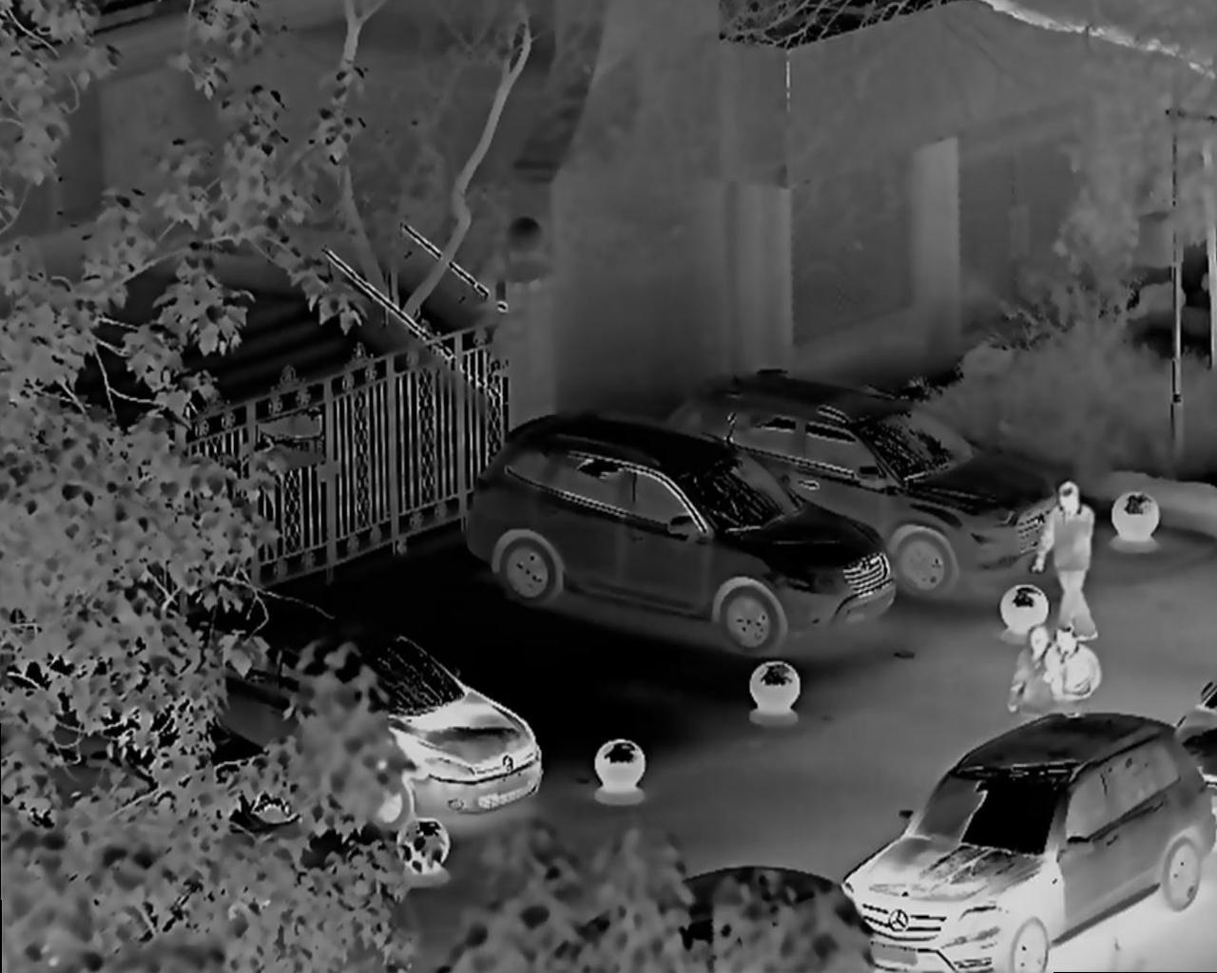person: (1032, 476, 1107, 641), (1015, 615, 1064, 742), (1052, 620, 1102, 717)
